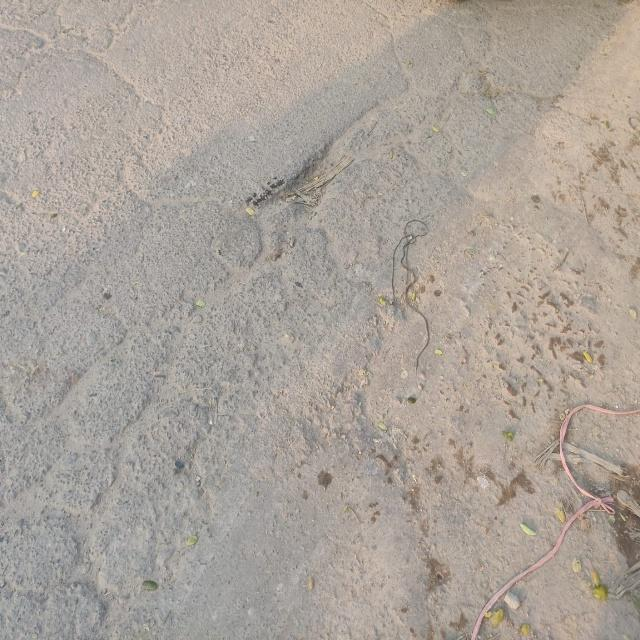Pothole: (240, 141, 351, 222)
Surface Erosion: (0, 23, 640, 640)
